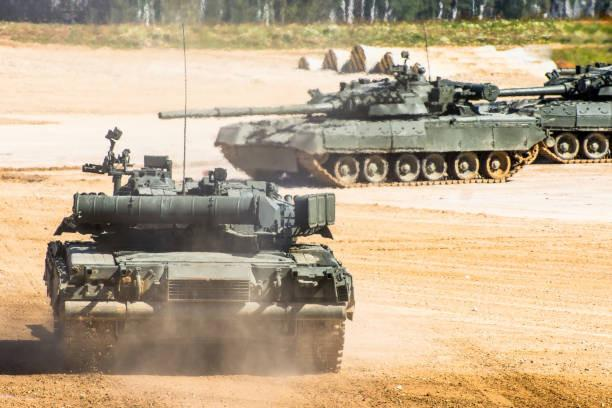tank: (44, 160, 353, 372), (159, 65, 547, 187), (484, 64, 611, 165)
